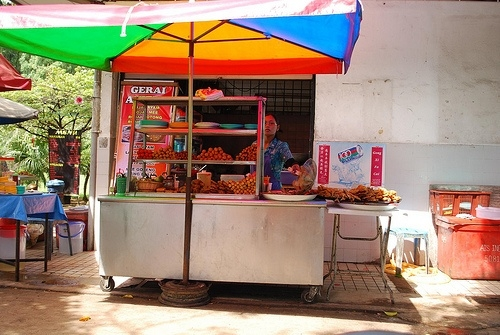gerobak: (0, 0, 361, 301), (0, 156, 67, 280), (0, 97, 36, 124)
